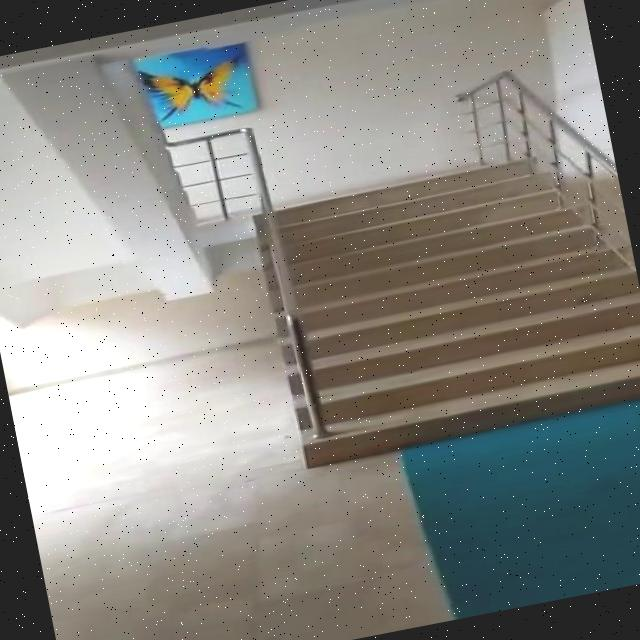stairs: (250, 139, 640, 469)
